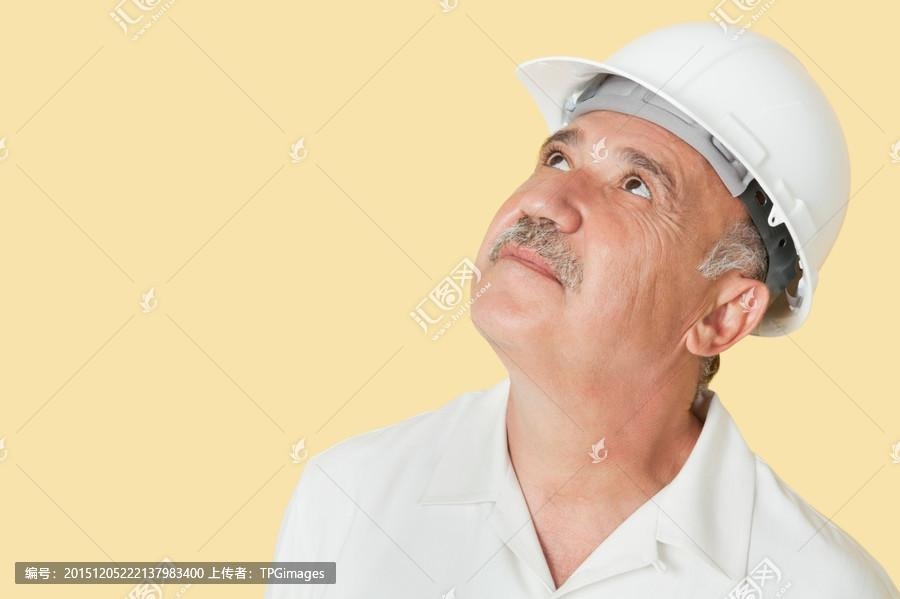helmet: (518, 12, 882, 328)
